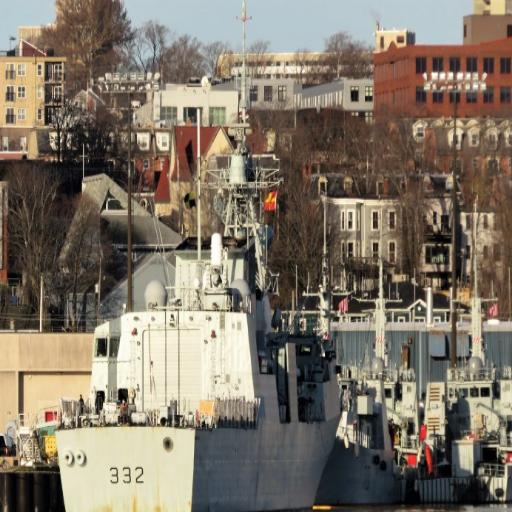Fragata: (55, 1, 348, 512)
